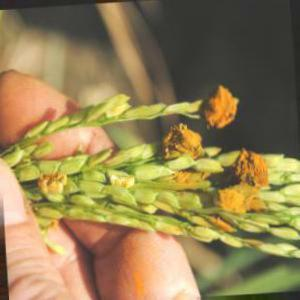Leaf_Scald: (225, 147, 271, 220), (202, 87, 248, 128), (165, 127, 211, 165)
